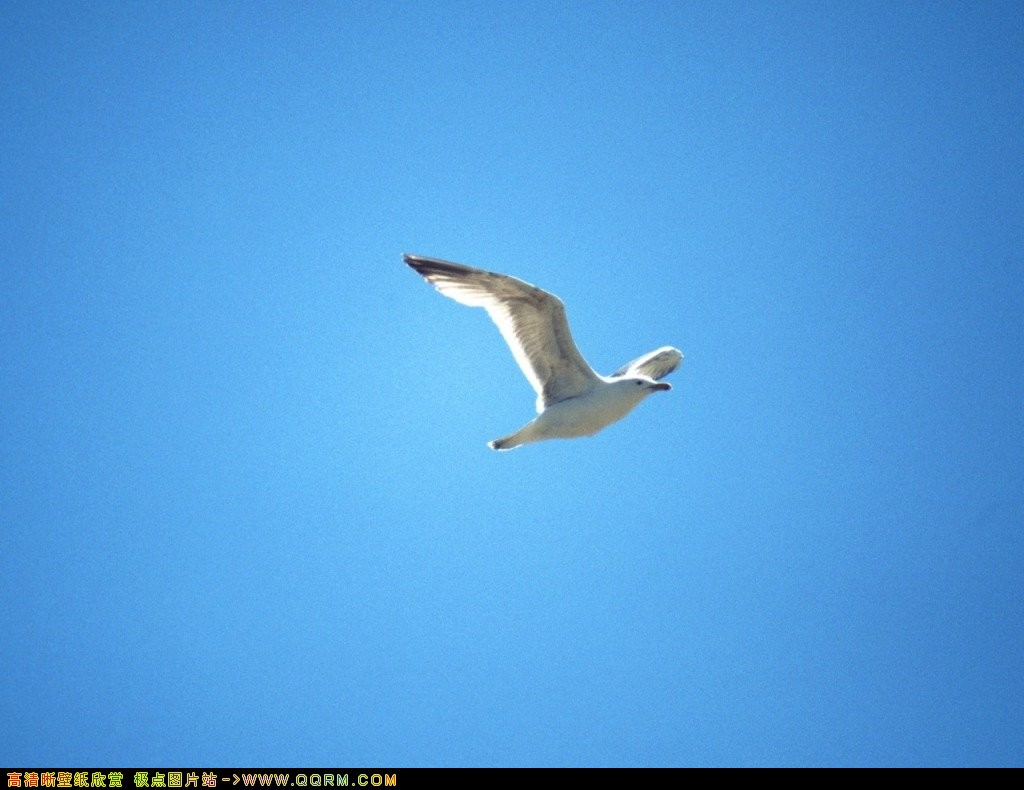bird: (401, 247, 684, 448)
